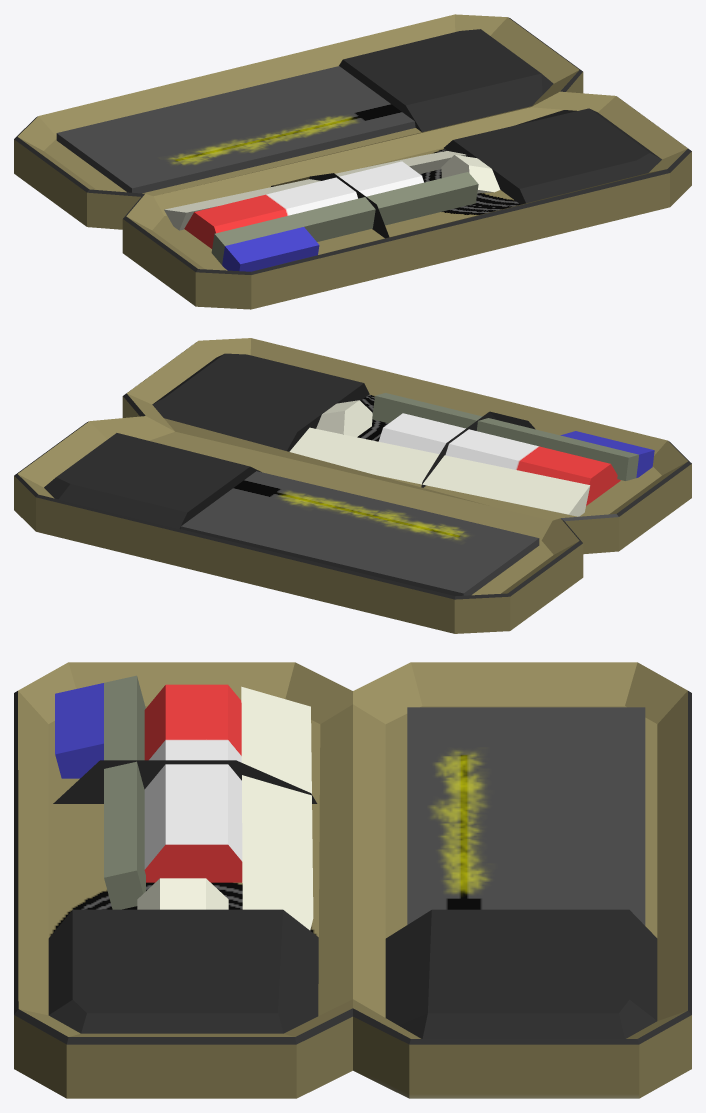
The model's file is FirearmMaintenanceKit.fbx.
3 views of the same model, one above another, from view 1: azimuth 30°, elevation 25°; view 2: azimuth 150°, elevation 25°; view 3: azimuth 270°, elevation 25° (orthographic). The views are drawn at different scales.
Parts seen in each view (by area): view 1: Bag; view 2: Bag; view 3: Bag.
Boxes of the visible parts, bbox=[...] form: Bag: bbox=[14, 14, 691, 309]; Bag: bbox=[14, 338, 691, 633]; Bag: bbox=[14, 662, 691, 1098].
Size of the model in its own units: 0.2181 by 0.02 by 0.164.
